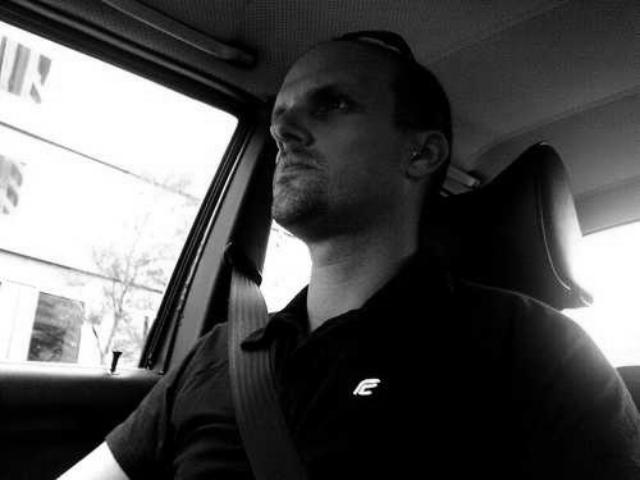Seatbelt: (222, 246, 278, 480)
